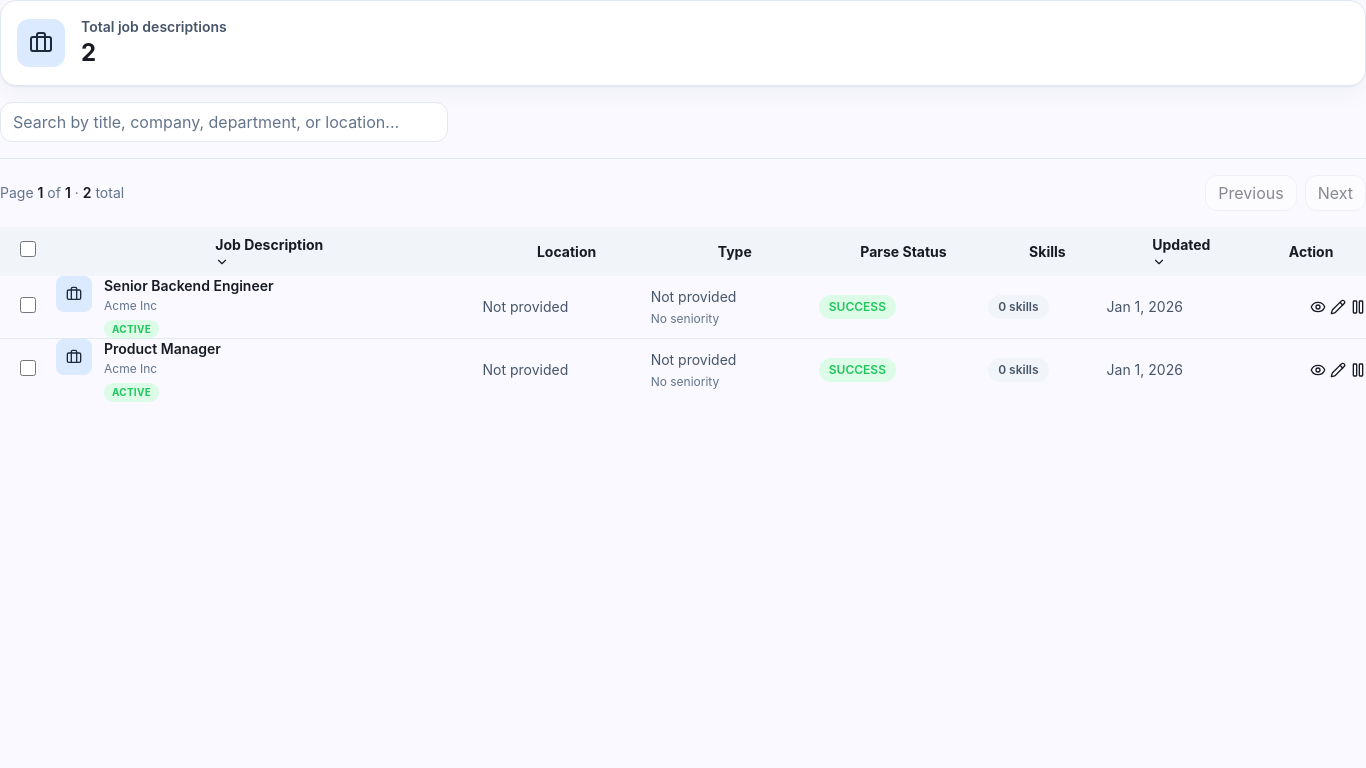
Scenario: JobDescriptionList › bulk-deactivates selected job descriptions
Expected: the text "Senior Backend Engineer" is shown, [104,276,274,296]
What coordinates should you click on to do the following:
click the checkbox named "Select row" below "Senior Backend Engineer"
I would click on:
 (28, 305)
Its box is [20,297,36,313].
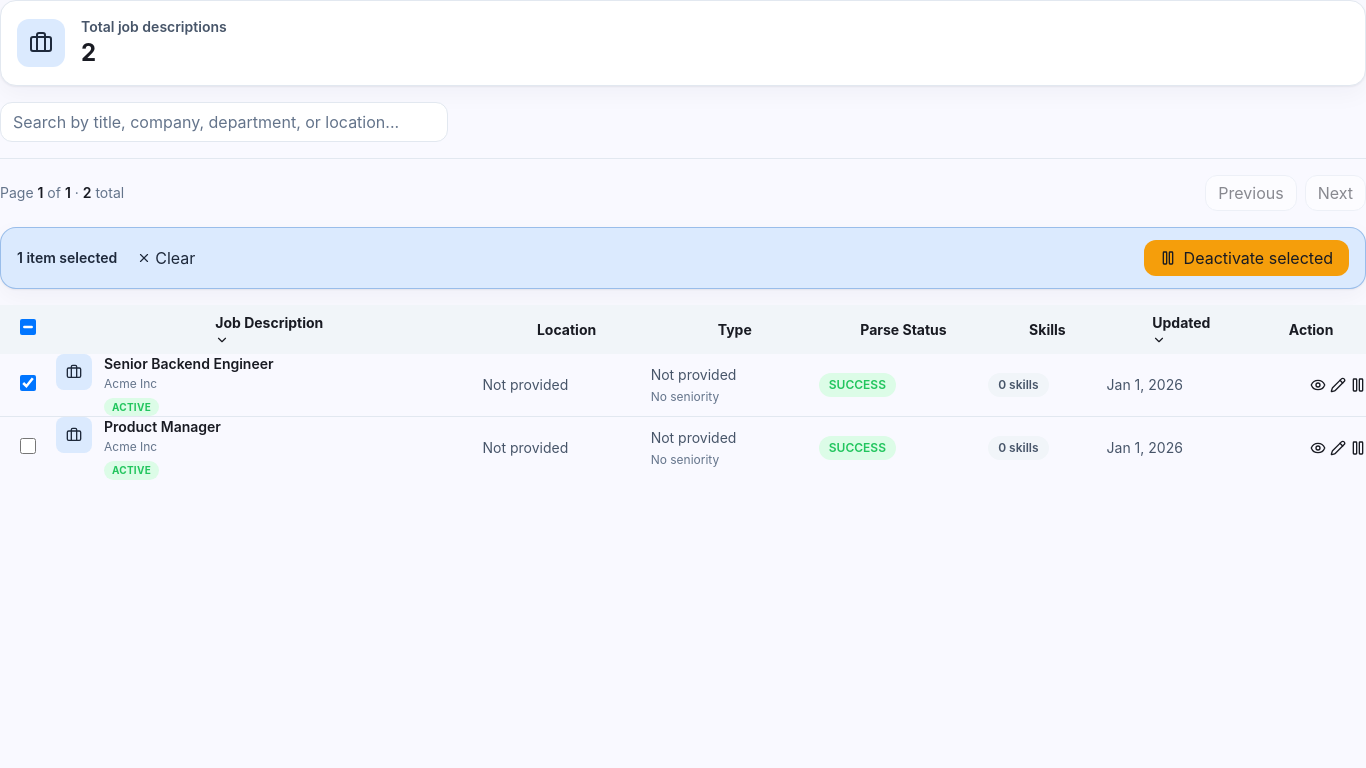
What coordinates should you click on to do the following:
click the checkbox named "Select row" below "Product Manager"
I would click on:
 (28, 446)
Its box is [20,438,36,454].
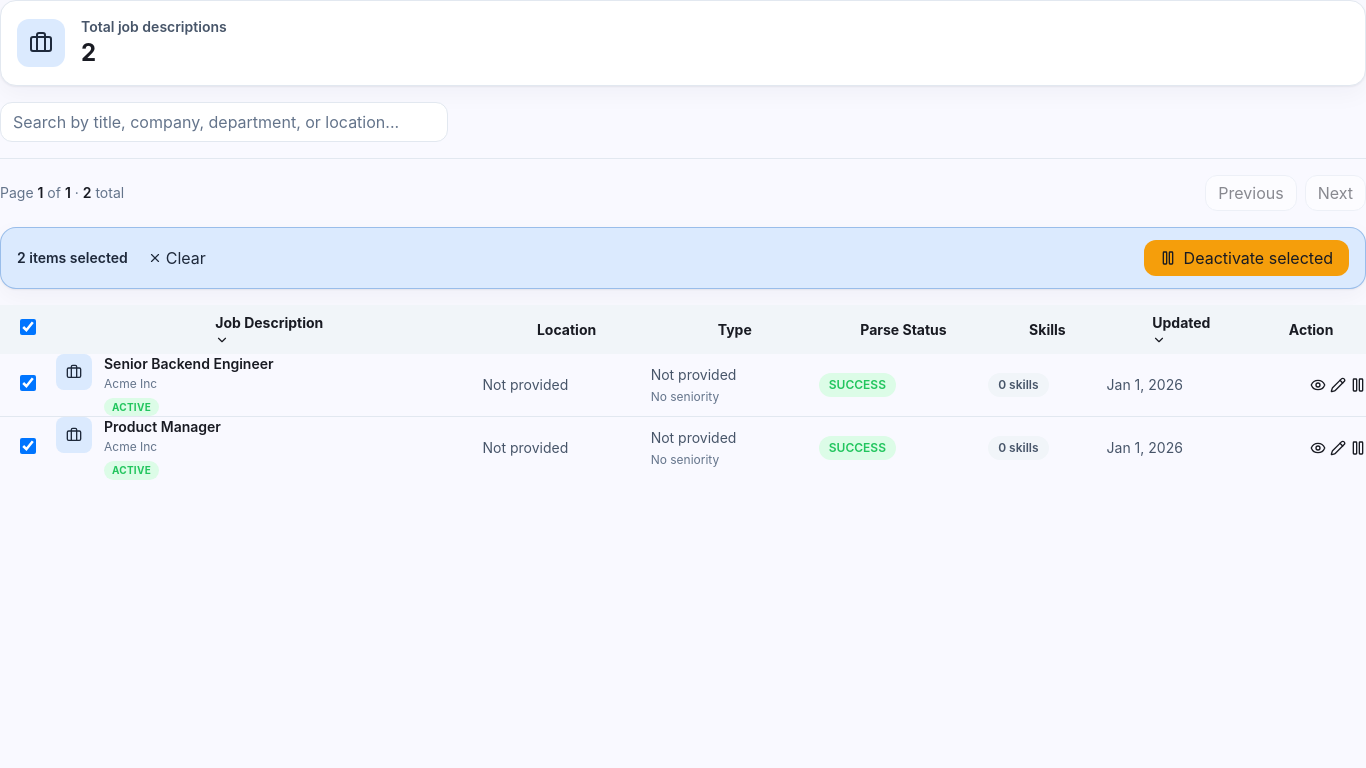
What coordinates should you click on to do the following:
click the button "Deactivate selected"
I would click on:
 (1246, 258)
Its box is [1144,240,1349,276].
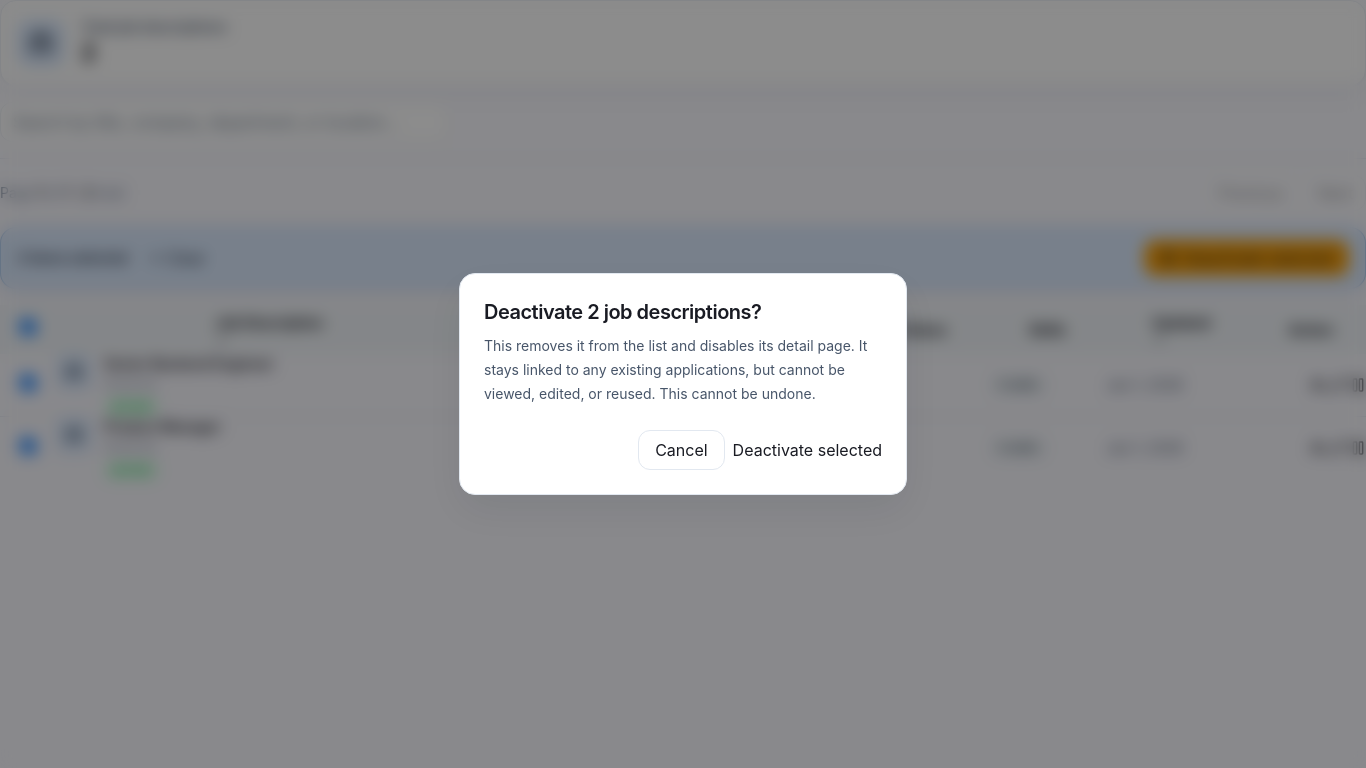
Expected: the heading "Deactivate 2 job descriptions?" is shown, [484,300,761,324]
What coordinates should you click on to do the following:
click the button "Deactivate selected"
I would click on:
 (807, 450)
Its box is [733,430,882,470].
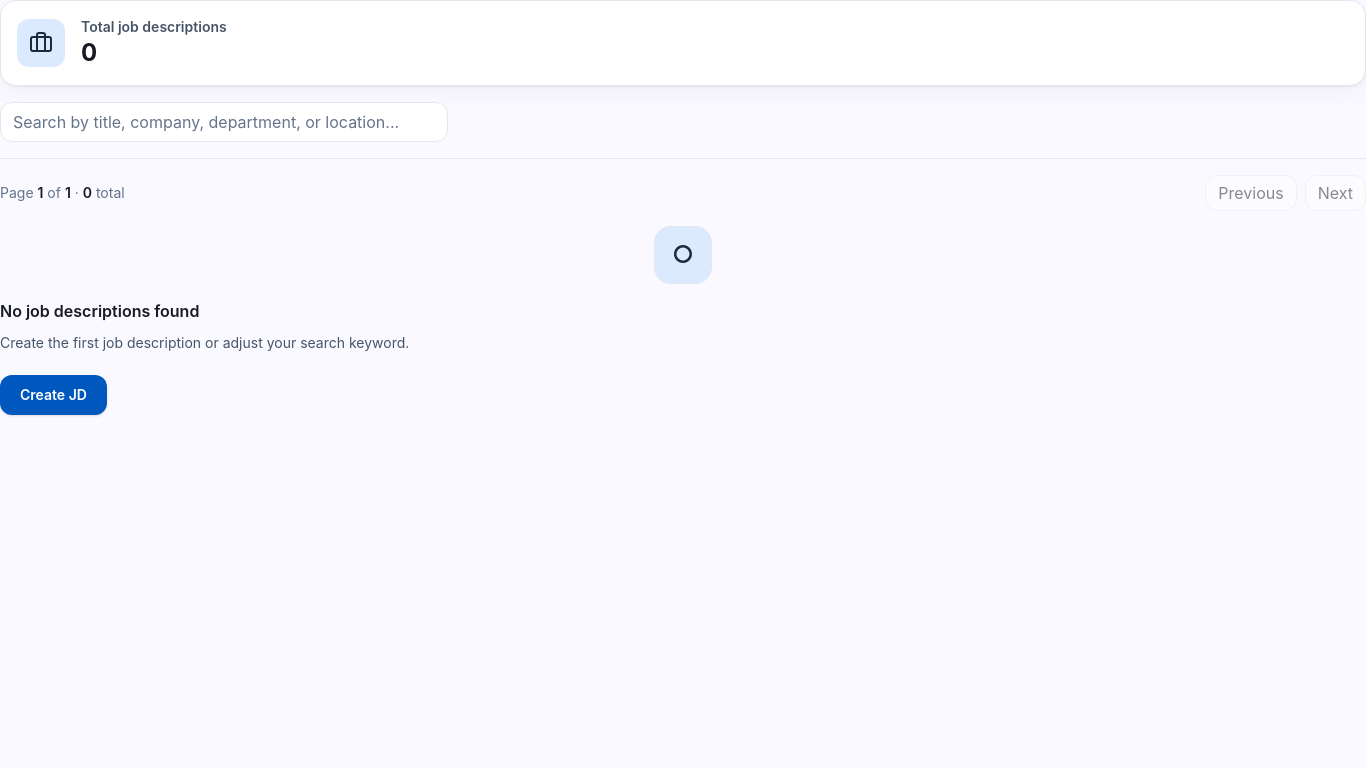
Expected: the heading "No job descriptions found" is shown, [0,301,199,321]
